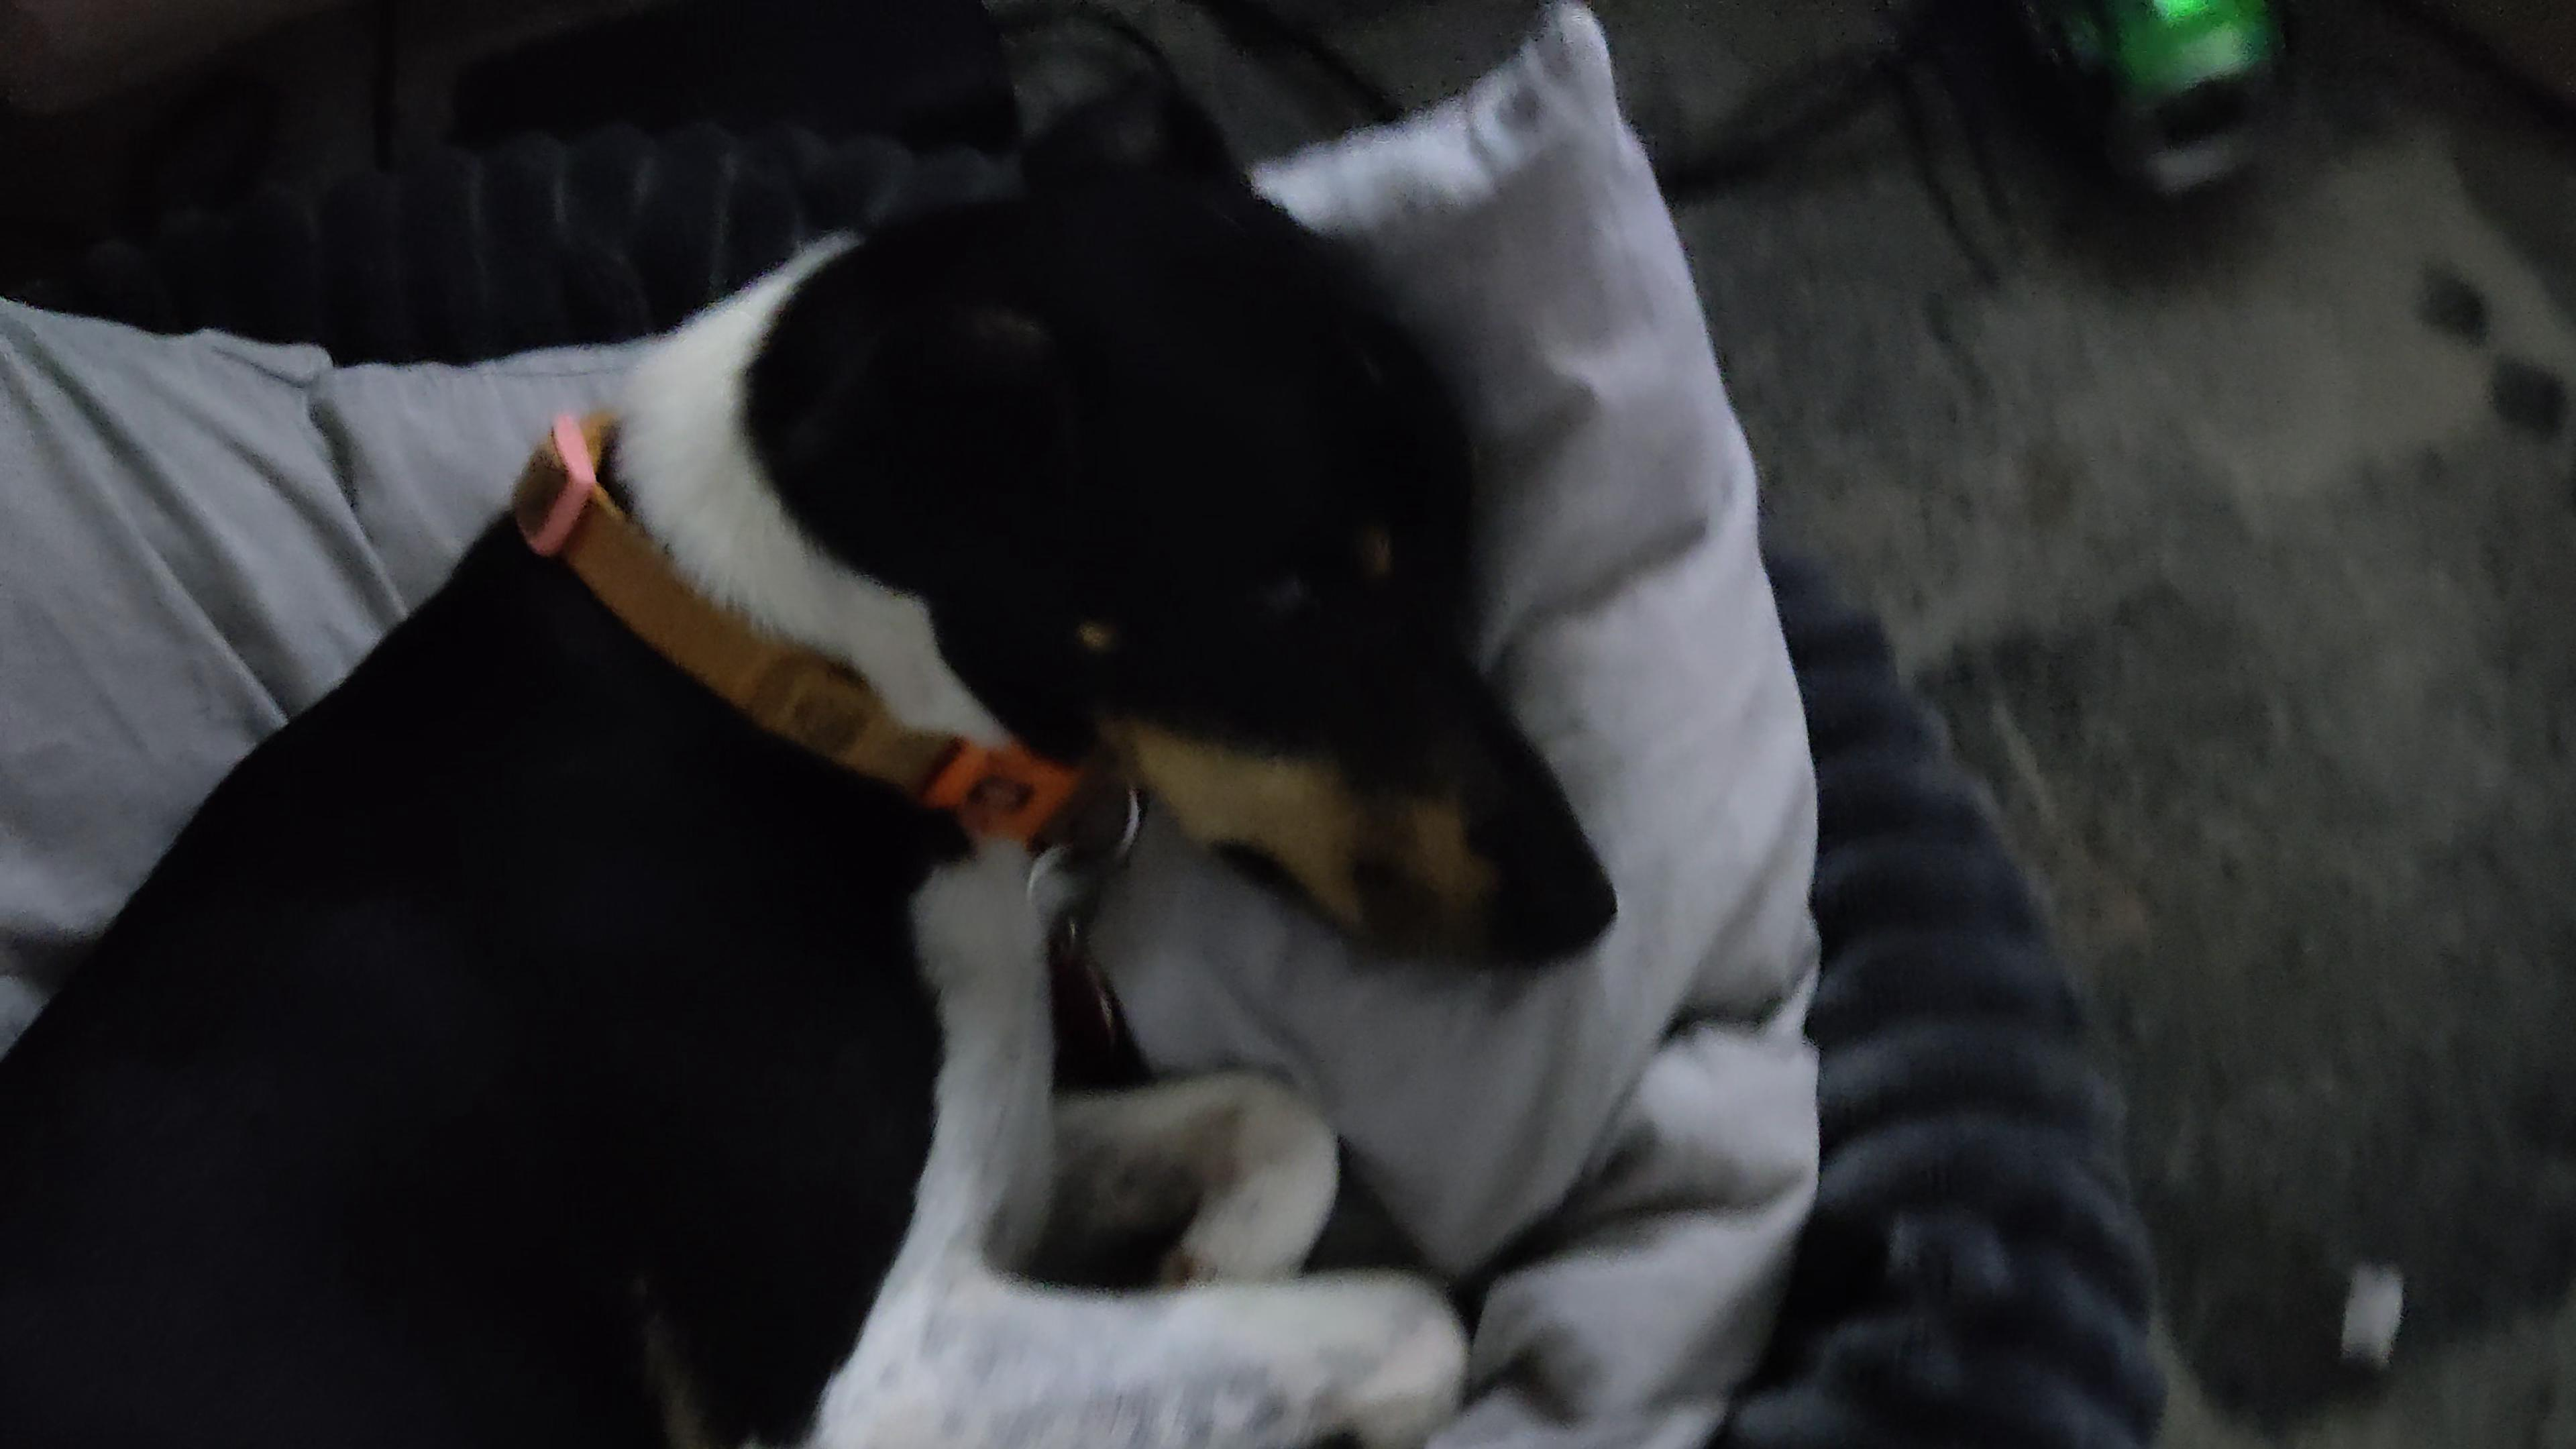Dog: (0, 55, 1633, 1449)
